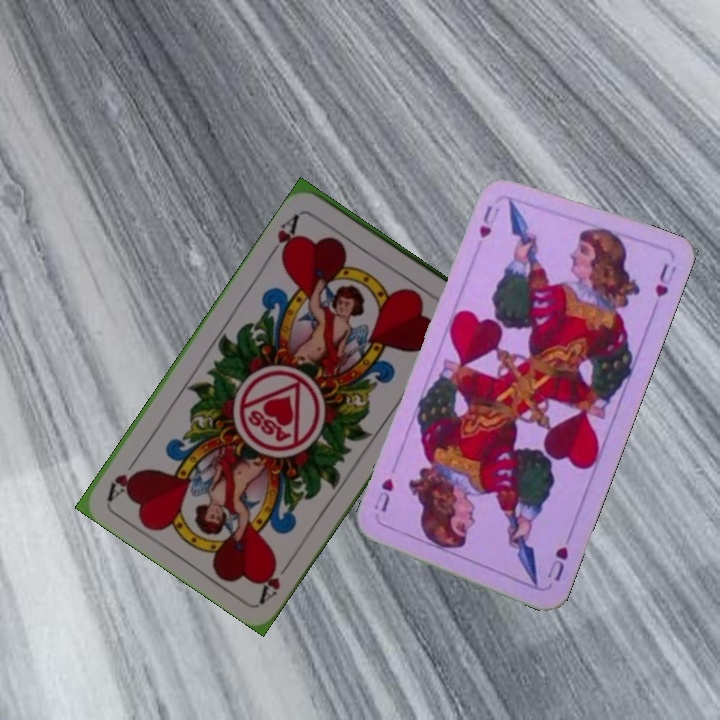HA: (265, 208, 306, 263), (255, 552, 297, 605)
HU: (542, 542, 571, 584), (475, 201, 495, 241)
